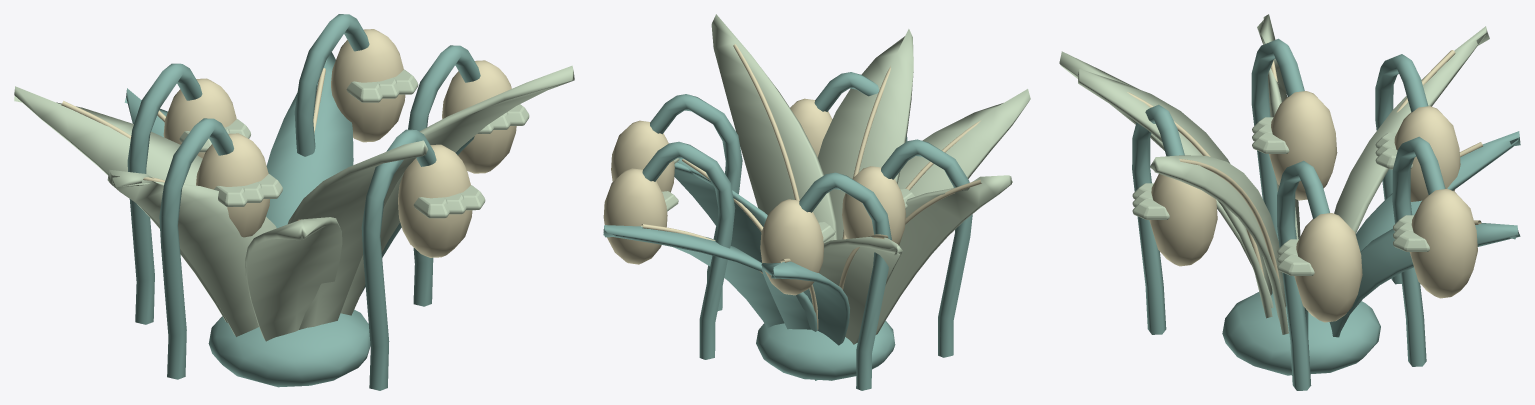
The model's file is bio_mist_leaf_03_far.glb.
3 views of the same model, side by side, from view 1: azimuth 30°, elevation 25°; view 2: azimuth 150°, elevation 25°; view 3: azimuth 270°, elevation 25° (orthographic). The views are drawn at different scales.
Visible parts, largest first — view 1: Cupped condensate leaf.004, Cupped condensate leaf.007, Root rosette, Cupped condensate leaf.002, Cupped condensate leaf.003, Cupped condensate leaf.001, Arched fruit stem.004, Pendant spore capsule.002, Arched fruit stem.002, Arched fruit stem.001, Pendant spore capsule.003, Cupped condensate leaf.005 (+10 smaller); view 2: Cupped condensate leaf.005, Cupped condensate leaf.002, Cupped condensate leaf.004, Root rosette, Cupped condensate leaf.007, Cupped condensate leaf.003, Arched fruit stem.003, Arched fruit stem.001, Arched fruit stem.004, Pendant spore capsule.001, Pendant spore capsule.003, Cupped condensate leaf.006 (+10 smaller); view 3: Root rosette, Pendant spore capsule, Pendant spore capsule.003, Cupped condensate leaf.005, Pendant spore capsule.004, Cupped condensate leaf.002, Arched fruit stem, Pendant spore capsule.002, Cupped condensate leaf.001, Arched fruit stem.002, Arched fruit stem.003, Arched fruit stem.004 (+13 smaller).
Part boxes in pixels (box(x1,y1,x2,y2)): Cupped condensate leaf.004: box(107, 169, 276, 336); Cupped condensate leaf.007: box(245, 217, 342, 341); Root rosette: box(208, 309, 370, 387); Cupped condensate leaf.002: box(288, 140, 427, 329); Cupped condensate leaf.003: box(266, 52, 353, 228); Cupped condensate leaf.001: box(14, 86, 227, 322); Arched fruit stem.004: box(159, 118, 233, 379); Pendant spore capsule.002: box(398, 144, 472, 257); Arched fruit stem.002: box(361, 129, 436, 390); Arched fruit stem.001: box(127, 63, 202, 324); Pendant spore capsule.003: box(331, 29, 405, 142); Cupped condensate leaf.005: box(340, 65, 574, 315); Cupped condensate leaf.005: box(711, 14, 837, 243); Cupped condensate leaf.002: box(817, 29, 913, 239); Cupped condensate leaf.004: box(875, 175, 1012, 334); Root rosette: box(756, 320, 895, 380); Cupped condensate leaf.007: box(897, 89, 1030, 196); Cupped condensate leaf.003: box(603, 225, 817, 331); Arched fruit stem.003: box(642, 141, 735, 359); Arched fruit stem.001: box(799, 172, 891, 390); Arched fruit stem.004: box(881, 139, 972, 357); Pendant spore capsule.001: box(760, 199, 823, 295); Pendant spore capsule.003: box(603, 168, 667, 264); Cupped condensate leaf.006: box(761, 261, 849, 380); Root rosette: box(1222, 291, 1380, 375); Pendant spore capsule: box(1294, 213, 1362, 322); Pendant spore capsule.003: box(1409, 189, 1477, 298); Cupped condensate leaf.005: box(1150, 155, 1288, 334); Pendant spore capsule.004: box(1269, 91, 1337, 200); Cupped condensate leaf.002: box(1078, 69, 1272, 318); Arched fruit stem: box(1277, 160, 1329, 390); Pendant spore capsule.002: box(1149, 174, 1217, 266); Cupped condensate leaf.001: box(1334, 26, 1489, 233); Arched fruit stem.002: box(1132, 104, 1184, 334); Arched fruit stem.003: box(1392, 136, 1445, 366); Arched fruit stem.004: box(1251, 38, 1304, 240).
Size of the model in its own units: 1.83 by 1.25 by 1.74.
